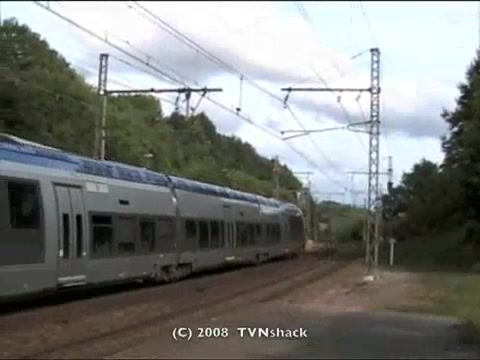train: (1, 129, 309, 305)
